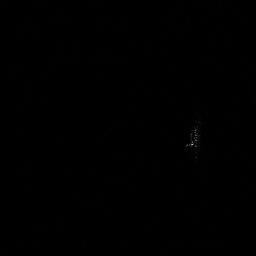ship: (185, 120, 202, 163)
